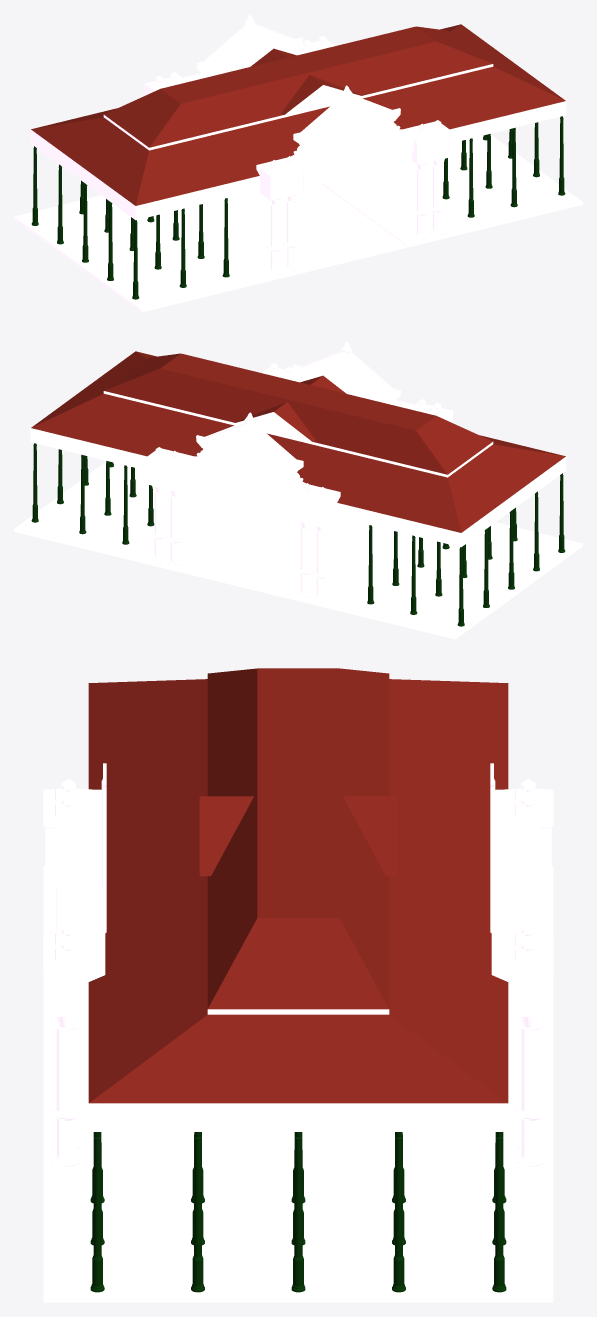
File: Keraton.fbx
The picture shows the model from 3 angles, top to bottom: view 1: azimuth 30°, elevation 25°; view 2: azimuth 150°, elevation 25°; view 3: azimuth 270°, elevation 25°; orthographic projection. The views are drawn at different scales.
Visible parts, largest first — view 1: Cube; view 2: Cube; view 3: Cube.
Part boxes in pixels (x1=…): Cube: x1=14, y1=14, x2=582, y2=312; Cube: x1=14, y1=341, x2=582, y2=639; Cube: x1=43, y1=668, x2=553, y2=1302.
Size of the model in its own units: 1523 by 533 by 762.
